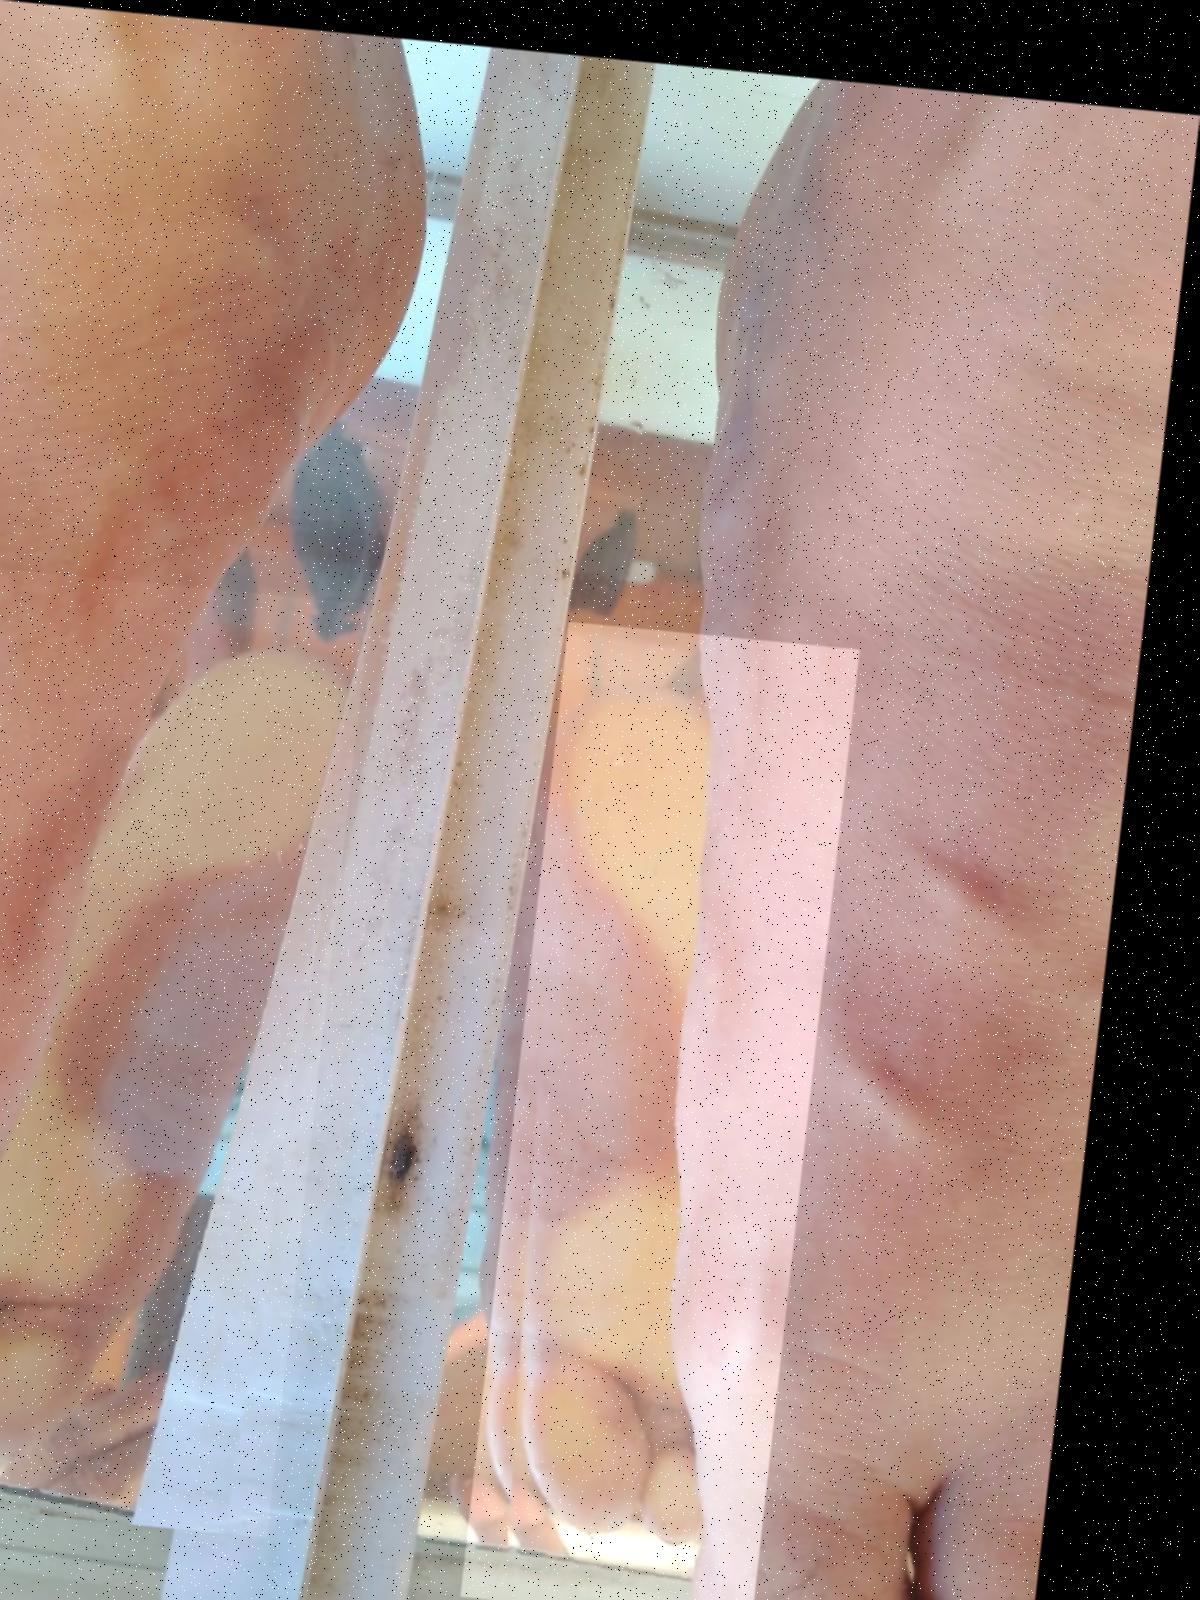9: (0, 567, 386, 1529)
Present: (497, 609, 874, 1600)
